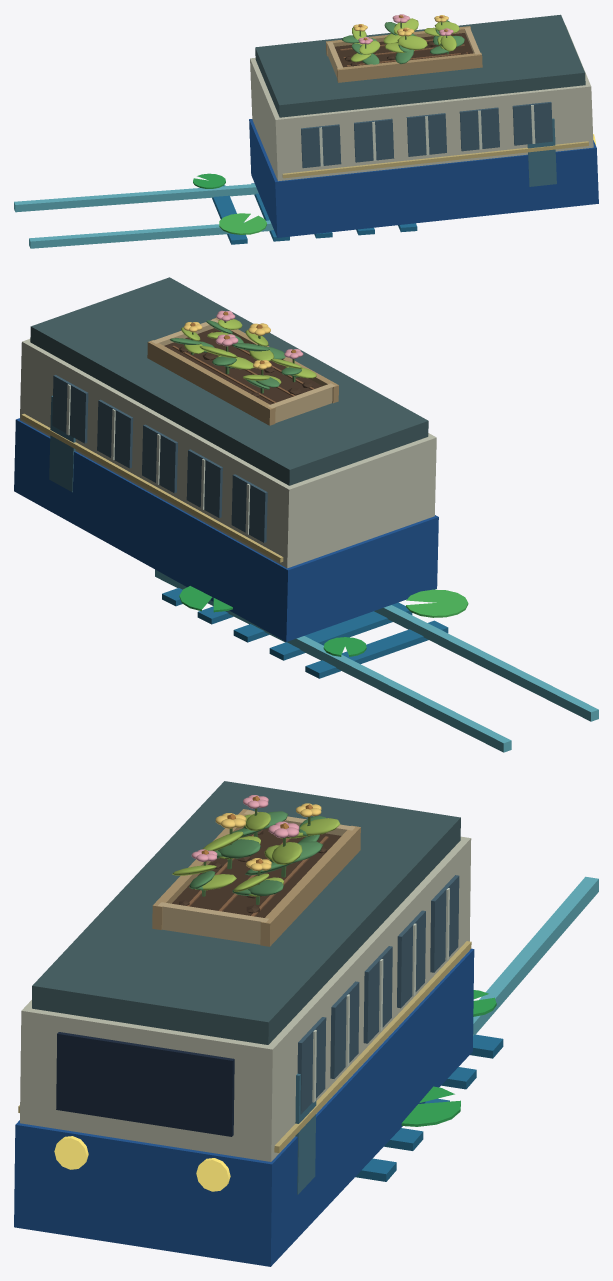
Rendered from unit_02.glb.
3 renders of one model, top to bottom at view 1: azimuth 30°, elevation 25°; view 2: azimuth 150°, elevation 25°; view 3: azimuth 270°, elevation 25°, orthographic. The views are drawn at different scales.
Parts seen in each view (by area): view 1: unit_02; view 2: unit_02; view 3: unit_02.
Boxes of the visible parts, box(x1,y1,x2,y2) form: unit_02: box(14, 14, 598, 248); unit_02: box(14, 277, 598, 752); unit_02: box(14, 781, 598, 1266).
Size of the model in its own units: 14.38 by 5.2 by 8.13.
